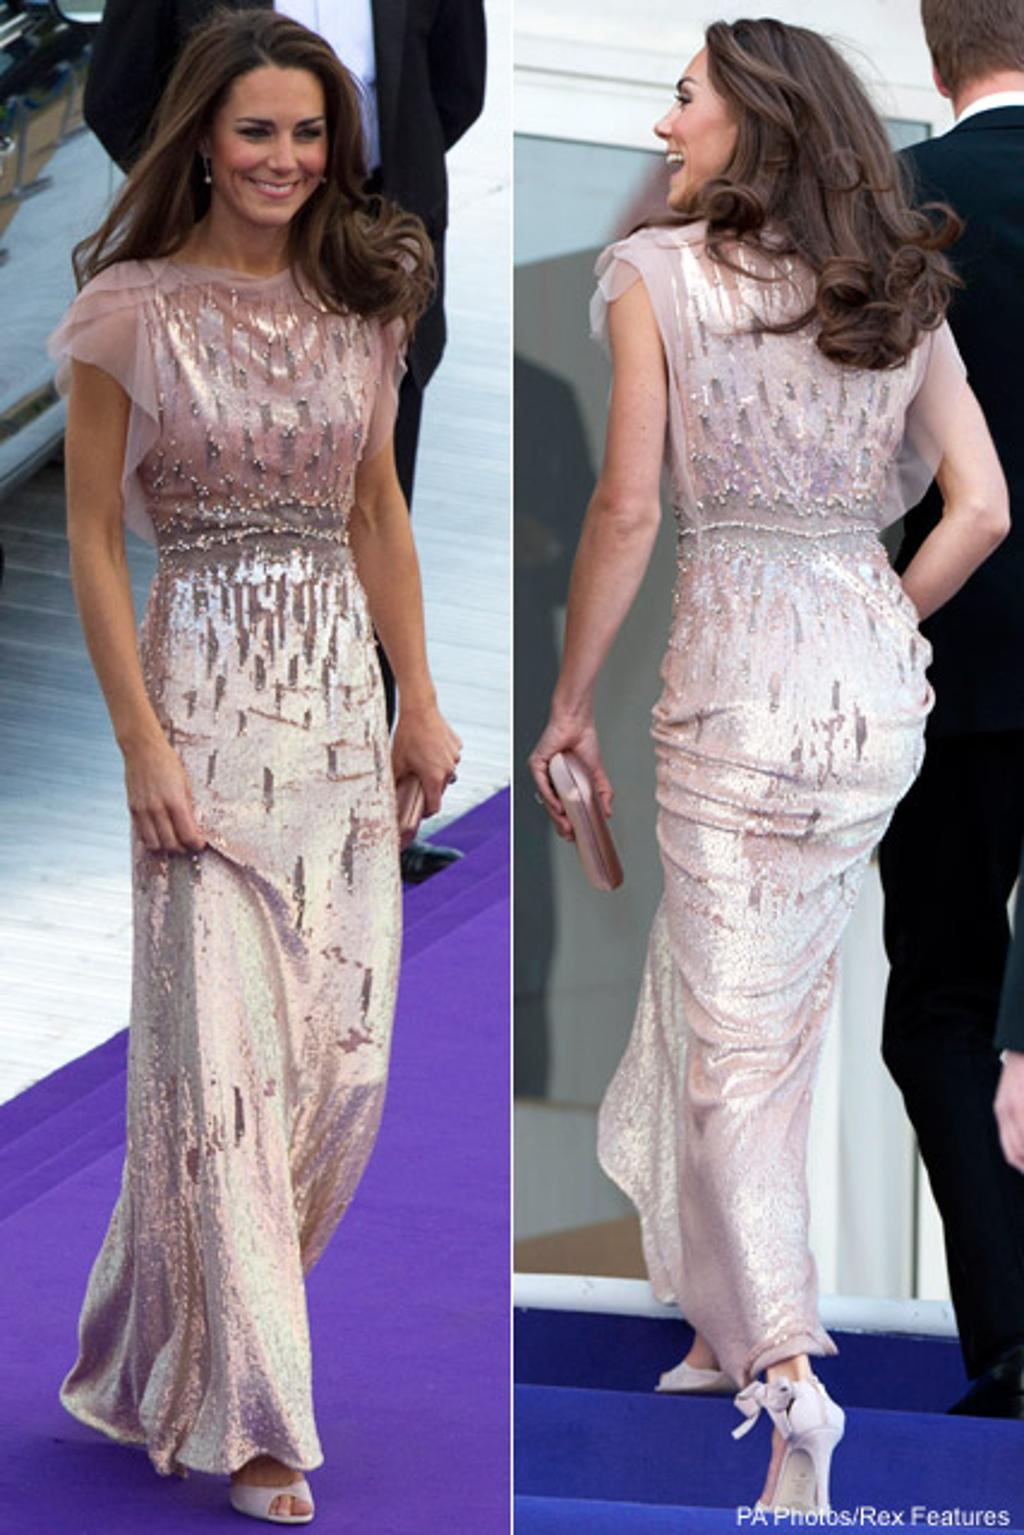face: (213, 60, 333, 222), (653, 48, 749, 207)
